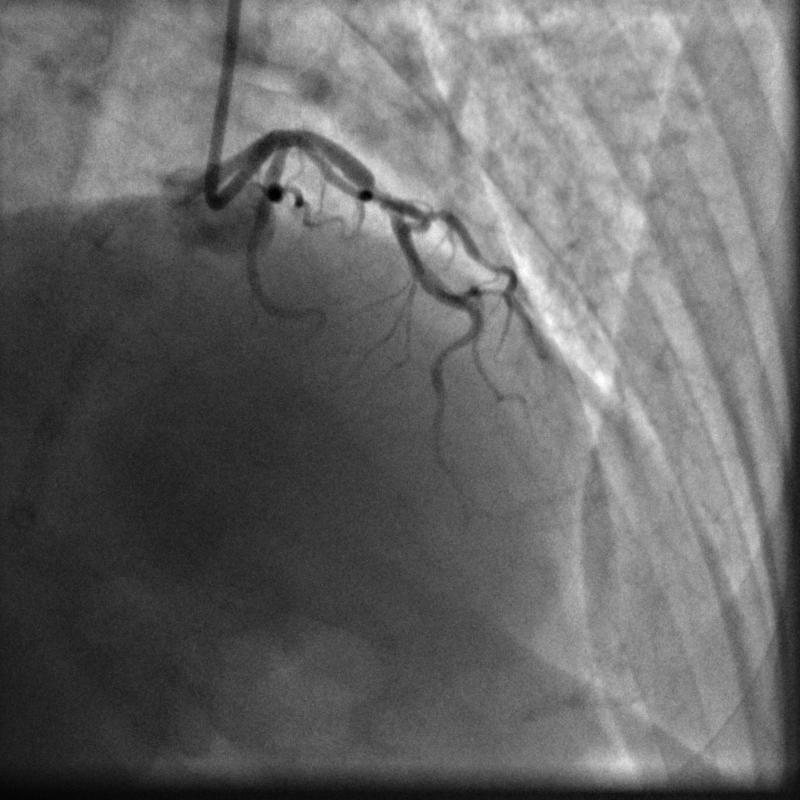Stenosis: (373, 179, 386, 210)
